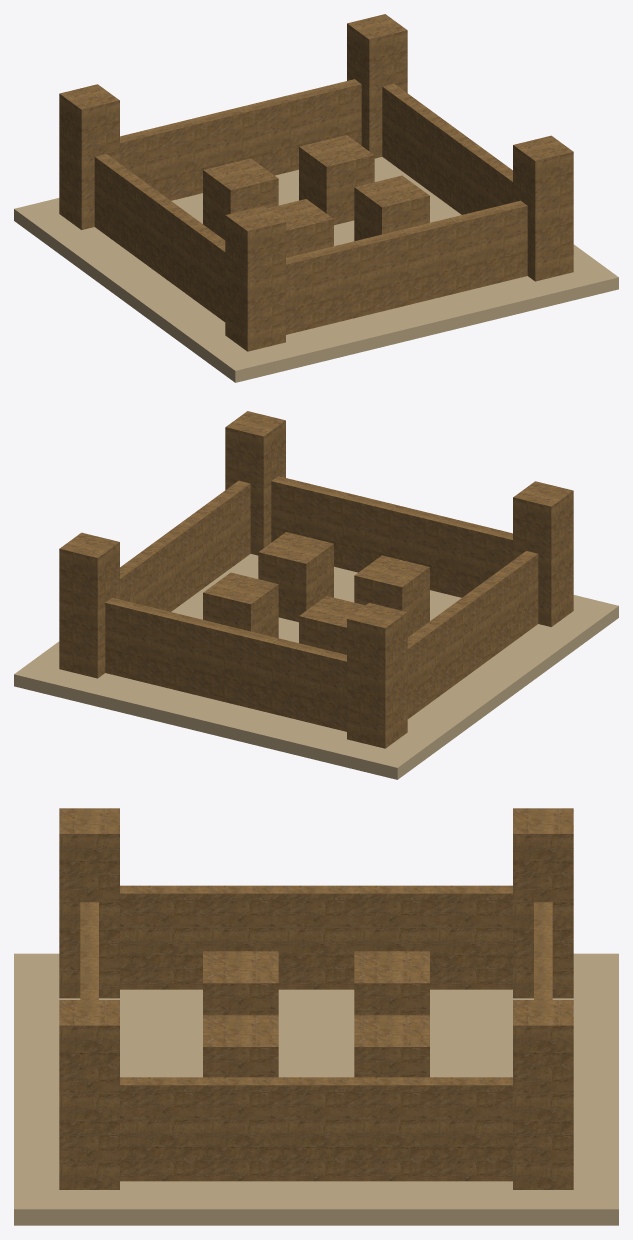
Rendered from fortaleza.glb.
3 views of the same model, one above another, from view 1: azimuth 30°, elevation 25°; view 2: azimuth 150°, elevation 25°; view 3: azimuth 270°, elevation 25° (orthographic). The views are drawn at different scales.
Visible parts, largest first — view 1: Base ilustrativa, Muralha.003, Muralha.001, Muralha, Muralha.002, Torre.001, Torre.003, Torre, Torre.002, Edificação.002, Edificação, Edificação.003 (+1 smaller); view 2: Base ilustrativa, Muralha.001, Muralha.003, Muralha, Muralha.002, Torre, Torre.002, Torre.001, Torre.003, Edificação.003, Edificação.001, Edificação.002 (+1 smaller); view 3: Base ilustrativa, Muralha.002, Muralha, Torre.002, Torre.003, Torre, Torre.001, Edificação, Edificação.001, Edificação.002, Edificação.003, Muralha.001 (+1 smaller).
Part boxes in pixels (<box>): Base ilustrativa: <box>14,157,618,382</box>; Muralha.003: <box>286,200,527,334</box>; Muralha.001: <box>120,79,361,200</box>; Muralha: <box>94,154,225,321</box>; Muralha.002: <box>382,83,512,214</box>; Torre.001: <box>225,206,285,351</box>; Torre.003: <box>513,135,573,281</box>; Torre: <box>59,84,119,229</box>; Torre.002: <box>347,14,407,158</box>; Edificação.002: <box>299,135,374,225</box>; Edificação: <box>203,158,278,240</box>; Edificação.003: <box>354,175,429,241</box>; Base ilustrativa: <box>14,554,618,779</box>; Muralha.001: <box>105,597,346,731</box>; Muralha.003: <box>271,476,512,597</box>; Muralha: <box>407,551,538,718</box>; Muralha.002: <box>120,480,250,611</box>; Torre: <box>347,603,407,748</box>; Torre.002: <box>59,532,119,678</box>; Torre.001: <box>513,481,573,626</box>; Torre.003: <box>225,411,285,555</box>; Edificação.003: <box>258,532,333,622</box>; Edificação.001: <box>354,555,429,637</box>; Edificação.002: <box>203,572,278,638</box>; Base ilustrativa: <box>14,953,618,1225</box>; Muralha.002: <box>120,1077,512,1181</box>; Muralha: <box>120,885,512,989</box>; Torre.002: <box>513,1000,573,1189</box>; Torre.003: <box>59,1000,119,1189</box>; Torre: <box>513,808,573,998</box>; Torre.001: <box>59,808,119,998</box>; Edificação: <box>354,951,429,1015</box>; Edificação.001: <box>203,951,278,1015</box>; Edificação.002: <box>354,1015,429,1077</box>; Edificação.003: <box>203,1015,278,1077</box>; Muralha.001: <box>534,902,552,999</box>.
Size of the model in its own units: 8 by 2.64 by 8.
Materials: 2 (1 with a texture image).
